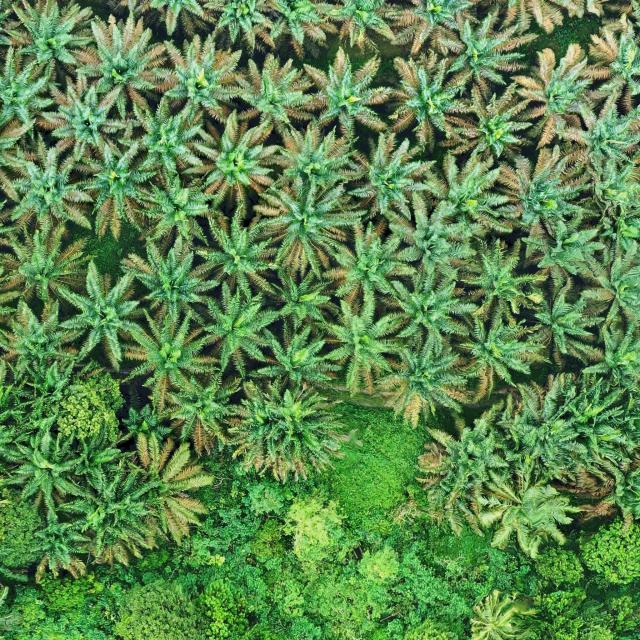Tree: (494, 374, 640, 484), (108, 301, 223, 407), (492, 138, 608, 242), (247, 172, 359, 278), (116, 427, 220, 541), (110, 84, 217, 190), (320, 271, 411, 395), (50, 266, 151, 377), (314, 218, 422, 320), (178, 112, 276, 224), (68, 12, 168, 120), (226, 376, 328, 479), (56, 451, 161, 551), (514, 38, 609, 147), (1, 130, 95, 240), (481, 464, 585, 562), (301, 43, 399, 144), (71, 135, 165, 239), (374, 333, 473, 431), (36, 73, 143, 163), (432, 5, 540, 94), (381, 192, 483, 284), (151, 28, 254, 119), (381, 49, 484, 140), (381, 259, 479, 348), (0, 217, 99, 305), (270, 115, 369, 203), (456, 236, 550, 328), (5, 415, 89, 515), (0, 0, 96, 87), (554, 86, 640, 183), (449, 84, 548, 167), (122, 166, 218, 250), (343, 135, 436, 221), (416, 149, 510, 234), (0, 297, 89, 384), (418, 415, 509, 499), (154, 372, 245, 456), (460, 308, 552, 391), (117, 242, 217, 318), (521, 205, 608, 292), (230, 50, 316, 138), (191, 212, 276, 301), (190, 287, 278, 372), (580, 5, 640, 124), (530, 283, 610, 365), (253, 323, 345, 392), (26, 506, 104, 584), (258, 262, 338, 336), (0, 44, 57, 135), (4, 354, 77, 425), (470, 589, 536, 640)
